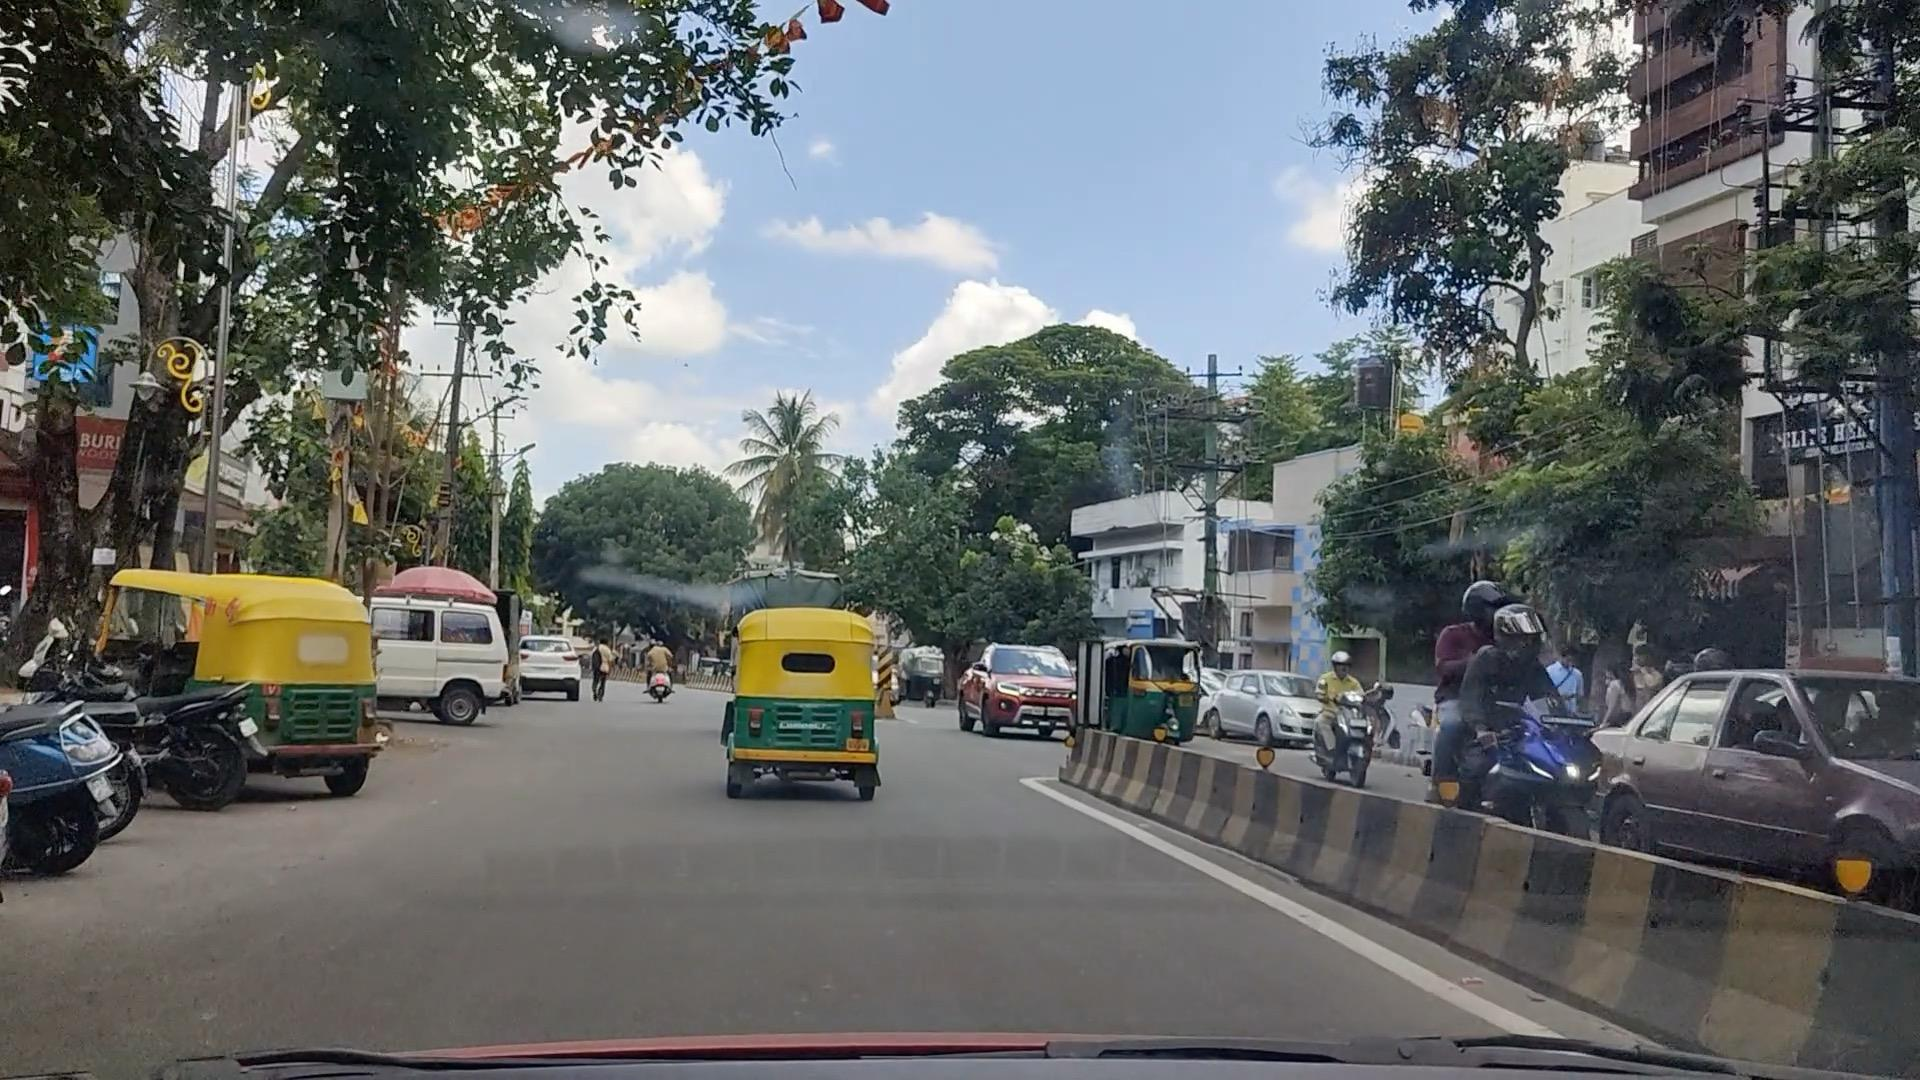LMV: (116, 574, 372, 799), (733, 613, 885, 787)
